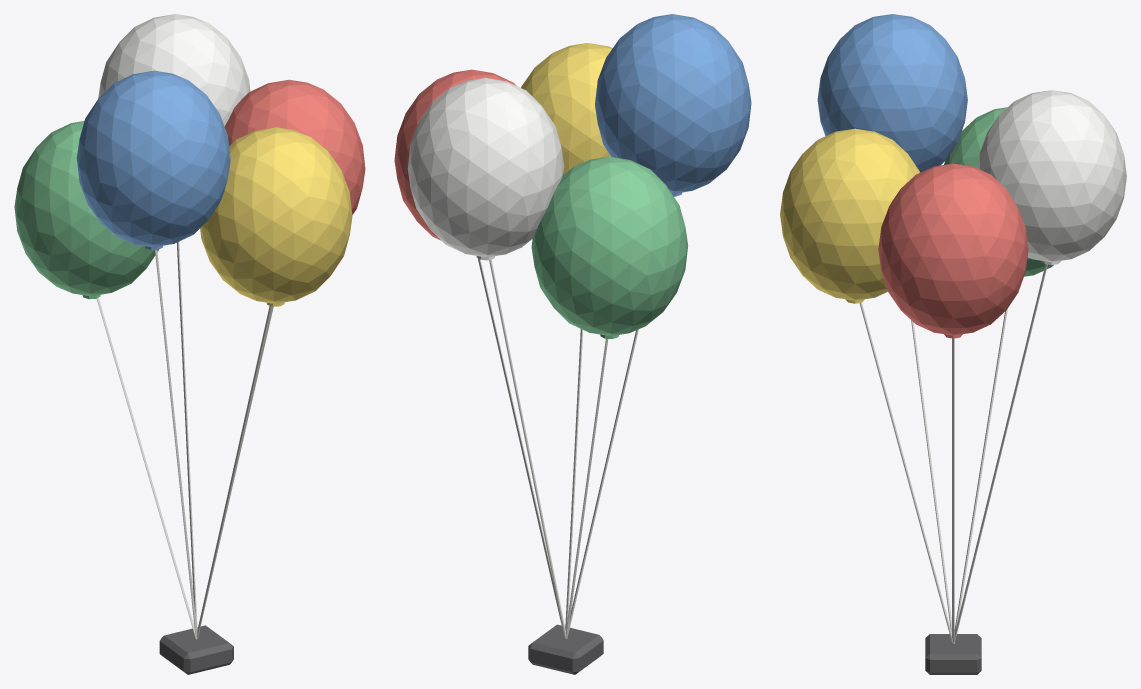
File: balloons.glb
The picture shows the model from 3 angles, left to right: view 1: azimuth 30°, elevation 25°; view 2: azimuth 150°, elevation 25°; view 3: azimuth 270°, elevation 25°; orthographic projection. The views are drawn at different scales.
Parts seen in each view (by area): view 1: balloons_flag_b, balloons_flag_y, balloons_paint_w, balloons_flag_g, balloons_flag_r, balloons_dark; view 2: balloons_paint_w, balloons_flag_g, balloons_flag_b, balloons_flag_y, balloons_flag_r, balloons_dark; view 3: balloons_paint_w, balloons_flag_r, balloons_flag_b, balloons_flag_y, balloons_dark, balloons_flag_g.
Boxes of the visible parts, left/top/right/bottom form: balloons_flag_b: left=76, top=70, right=230, bottom=250; balloons_flag_y: left=200, top=127, right=352, bottom=306; balloons_paint_w: left=96, top=14, right=273, bottom=639; balloons_flag_g: left=14, top=121, right=158, bottom=299; balloons_flag_r: left=224, top=79, right=365, bottom=214; balloons_dark: left=159, top=625, right=233, bottom=674; balloons_paint_w: left=407, top=77, right=638, bottom=638; balloons_flag_g: left=531, top=156, right=688, bottom=338; balloons_flag_b: left=595, top=14, right=751, bottom=196; balloons_flag_y: left=521, top=43, right=612, bottom=174; balloons_flag_r: left=394, top=69, right=516, bottom=240; balloons_dark: left=528, top=624, right=603, bottom=674; balloons_paint_w: left=859, top=90, right=1126, bottom=644; balloons_flag_r: left=878, top=163, right=1028, bottom=338; balloons_flag_b: left=817, top=14, right=967, bottom=172; balloons_flag_y: left=780, top=128, right=920, bottom=303; balloons_dark: left=925, top=634, right=981, bottom=674; balloons_flag_g: left=944, top=107, right=1053, bottom=276.
Size of the model in its own units: 0.718 by 1.43 by 0.7385.
